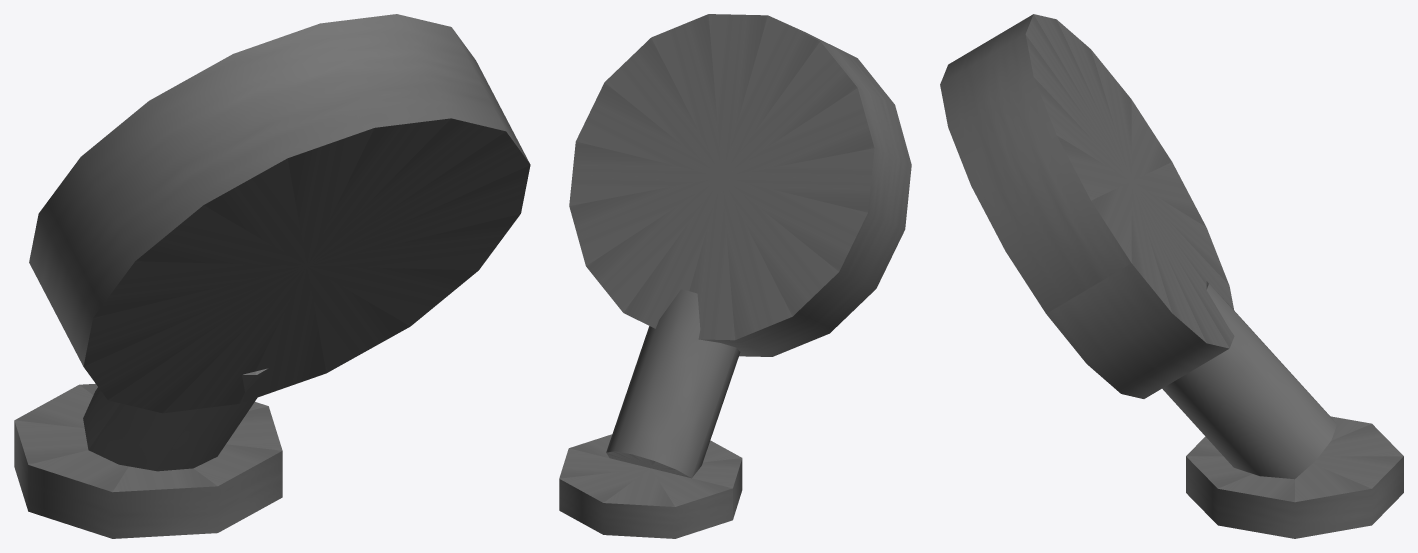
Rendered from mastarmcurve_6x2_c0_down.obj.
3 views of the same model, side by side, from view 1: azimuth 30°, elevation 25°; view 2: azimuth 150°, elevation 25°; view 3: azimuth 270°, elevation 25° (orthographic). The views are drawn at different scales.
Visible parts, largest first — view 1: mastarm_6x2_c0_down; view 2: mastarm_6x2_c0_down; view 3: mastarm_6x2_c0_down.
Part boxes in pixels (left/top/right/bottom): mastarm_6x2_c0_down: left=14, top=14, right=530, bottom=538; mastarm_6x2_c0_down: left=559, top=14, right=911, bottom=538; mastarm_6x2_c0_down: left=940, top=14, right=1403, bottom=538.
Bounding box in the file's own units: 0.7118 × 0.929 × 0.8513.
